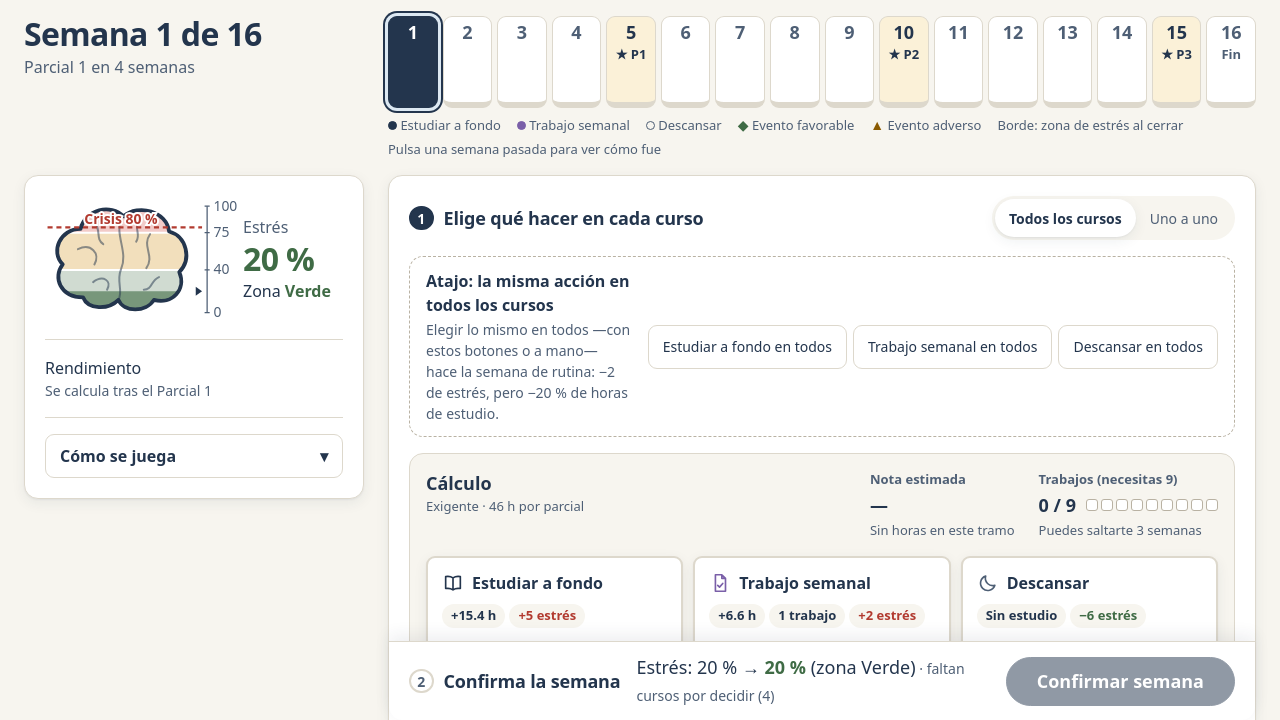
interfaz › el calendario marca la semana en curso y las ya cerradas
The width and height of the screenshot is (1280, 720).
Expected: the text "Parcial 1 en 4 semanas" is shown, [24,56,195,78]
Click the button "Descansar en todos": click(1138, 346) [1058,324,1218,368]
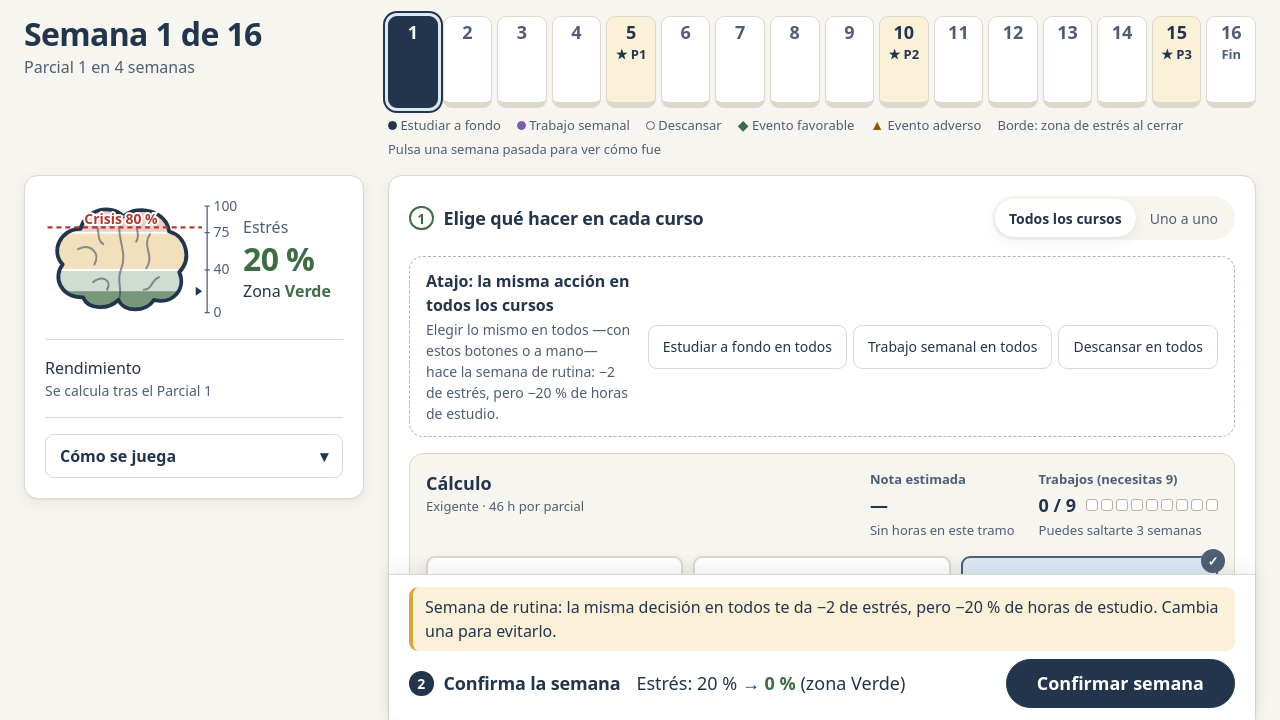
Click the button "Confirmar semana": click(1120, 684) [1006,659,1235,708]
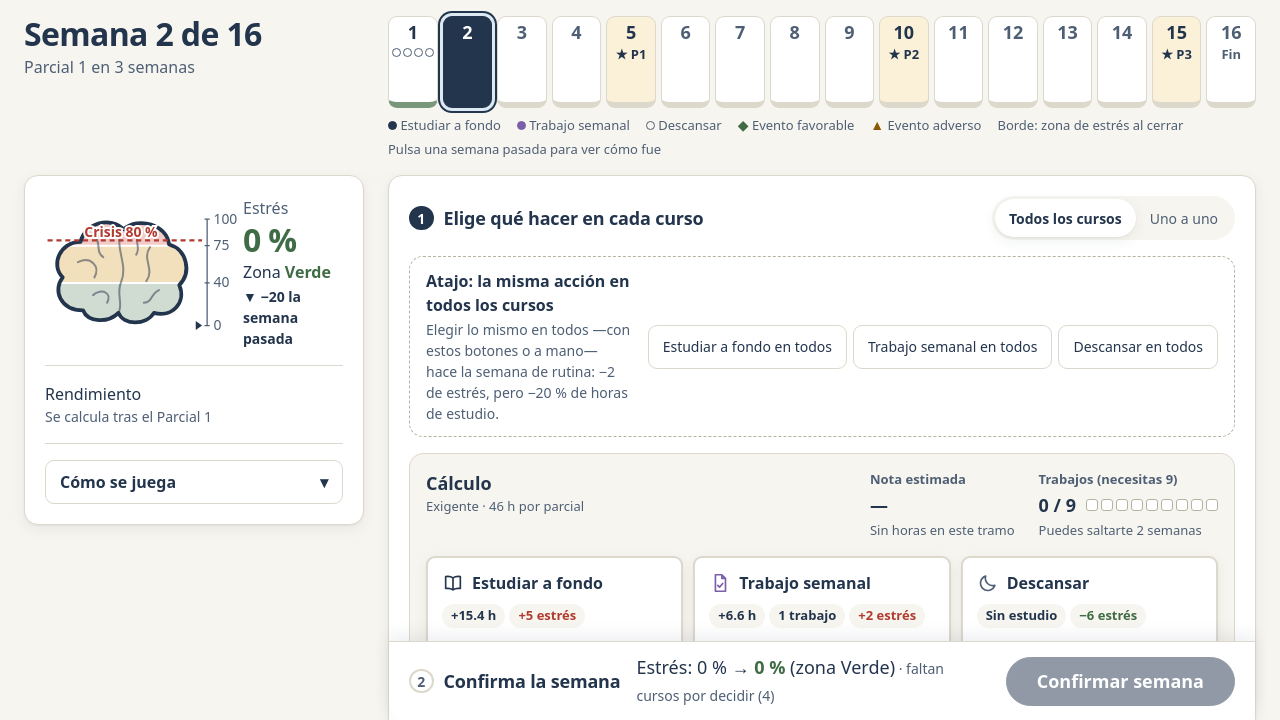
Expected: the list item "5 ★ P1" is shown, [606,16,656,108]
Result: the number of list items is 16
